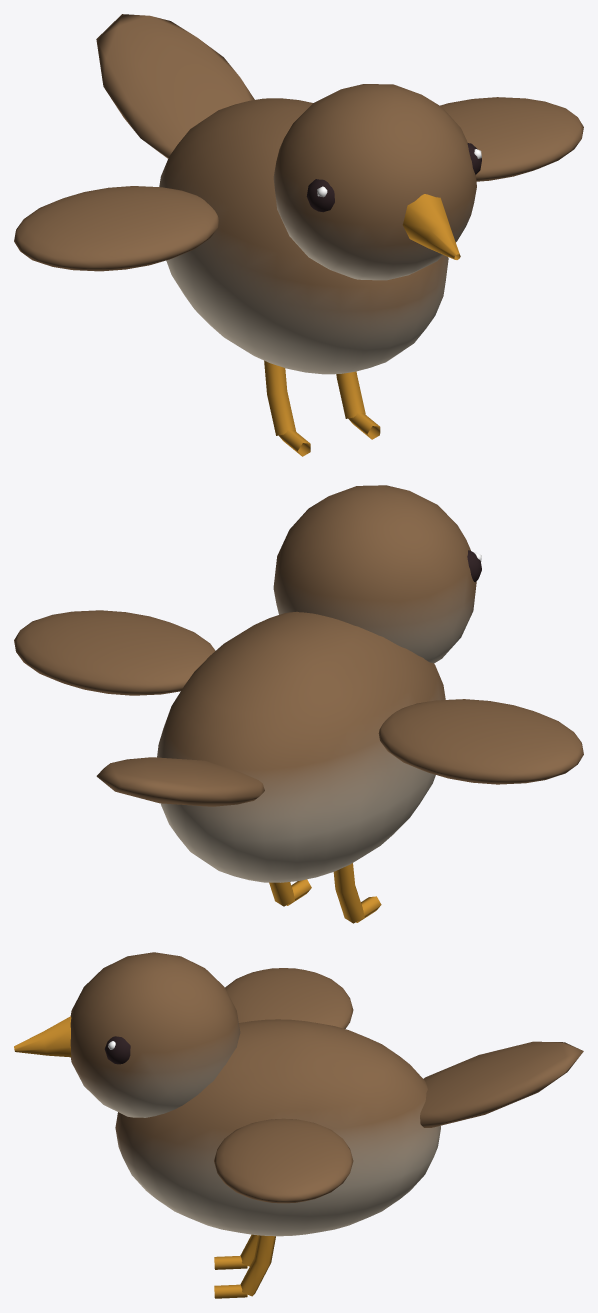
Rendered from critter_sparrow.glb.
3 views of the same model, one above another, from view 1: azimuth 30°, elevation 25°; view 2: azimuth 150°, elevation 25°; view 3: azimuth 270°, elevation 25° (orthographic). The views are drawn at different scales.
Parts seen in each view (by area): view 1: sparrow_body, sparrow_wing_l, sparrow_wing_r, sparrow_eye_l; view 2: sparrow_body, sparrow_wing_l, sparrow_wing_r; view 3: sparrow_body, sparrow_wing_r, sparrow_wing_l, sparrow_eye_r.
Boxes of the visible parts, x1,y1,x2,y2 form: sparrow_body: [96, 14, 476, 456]; sparrow_wing_l: [14, 186, 218, 271]; sparrow_wing_r: [440, 97, 583, 181]; sparrow_eye_l: [306, 179, 334, 212]; sparrow_body: [96, 485, 476, 923]; sparrow_wing_l: [378, 699, 583, 784]; sparrow_wing_r: [14, 610, 215, 695]; sparrow_body: [14, 952, 583, 1298]; sparrow_wing_r: [214, 1118, 353, 1203]; sparrow_wing_l: [225, 968, 353, 1028]; sparrow_eye_r: [104, 1036, 130, 1064].
Size of the model in its own units: 0.35 by 0.2303 by 0.3675.
